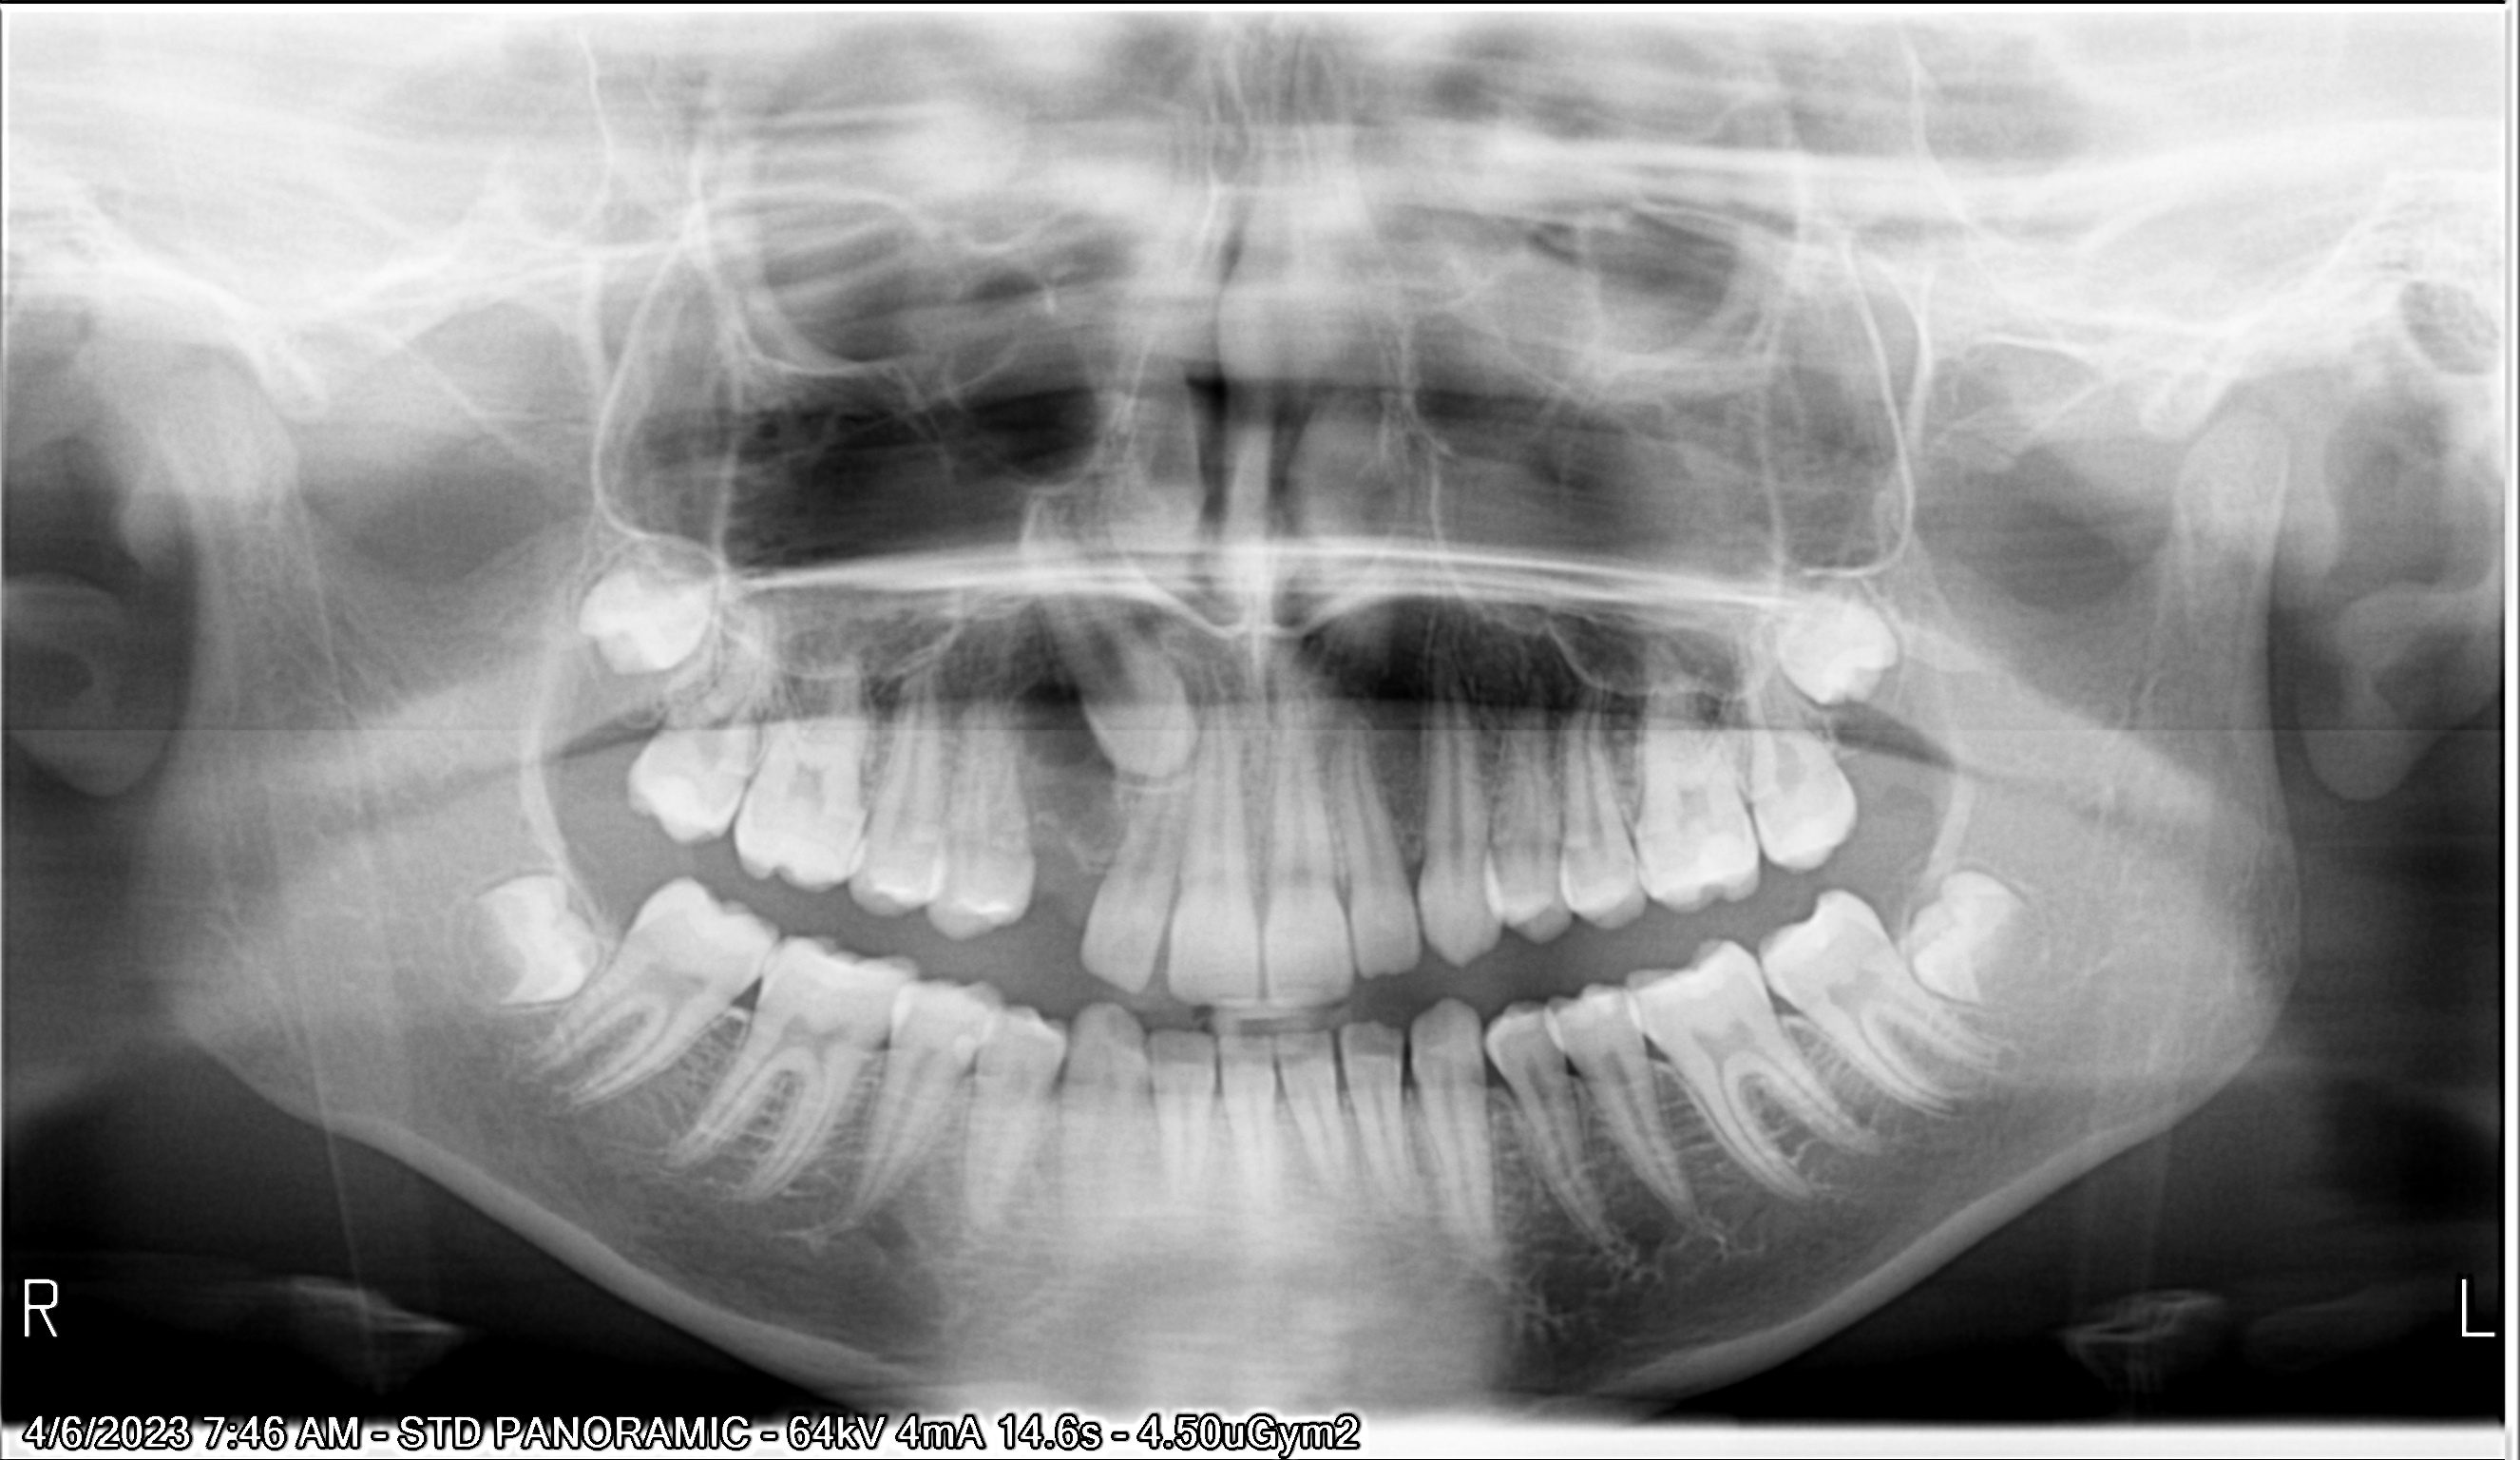IMT: (999, 490, 1228, 793), (405, 846, 587, 1008), (1897, 857, 2079, 1012), (1737, 567, 1902, 707), (584, 542, 716, 688)
OBT: (641, 784, 712, 843), (1699, 839, 1752, 893), (1553, 989, 1619, 1029), (950, 1034, 986, 1072)
